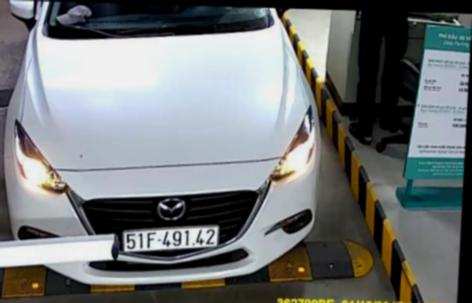License_Plate: (119, 224, 223, 255)
